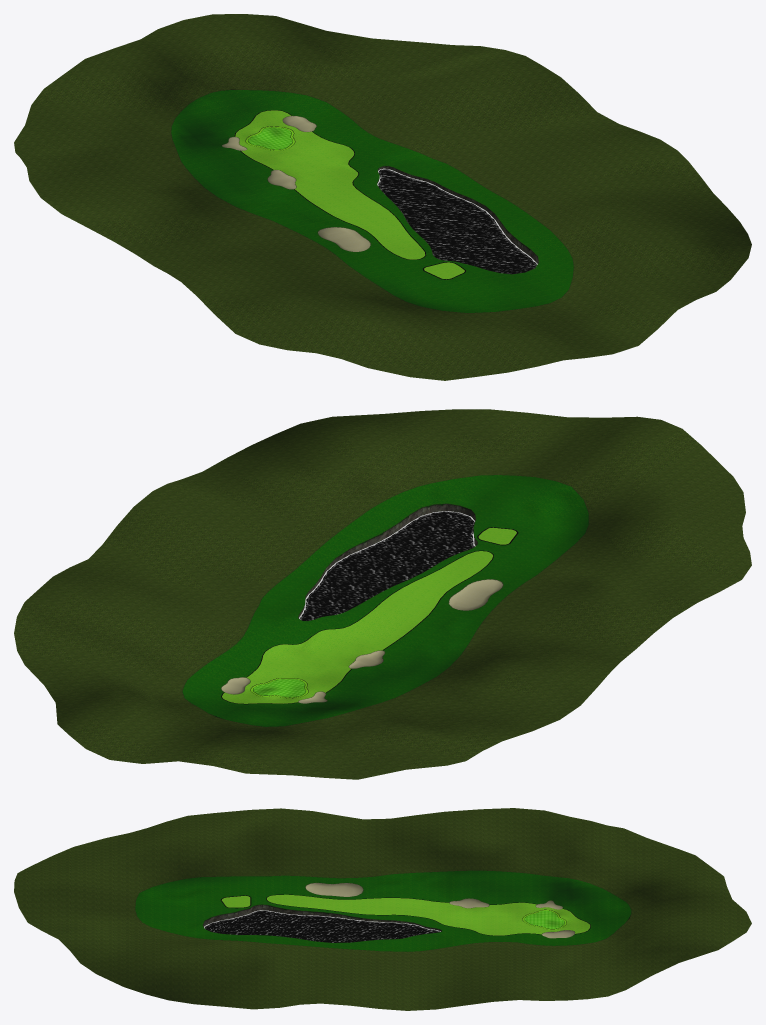
The model's file is glf_map_E3.glb.
3 views of the same model, one above another, from view 1: azimuth 30°, elevation 25°; view 2: azimuth 150°, elevation 25°; view 3: azimuth 270°, elevation 25° (orthographic). The views are drawn at different scales.
Parts seen in each view (by area): view 1: polygon36, polygon10, polygon8, polygon33, polygon4, polygon31, polygon11, polygon14, polygon0, polygon16; view 2: polygon36, polygon10, polygon8, polygon33, polygon4, polygon11, polygon31, polygon0, polygon14, polygon16; view 3: polygon36, polygon10, polygon8, polygon33, polygon4, polygon11, polygon31, polygon0, polygon16, polygon14.
Boxes of the visible parts, box(x1,y1,x2,y2) form: polygon36: box(14, 14, 751, 380); polygon10: box(171, 90, 573, 312); polygon8: box(235, 110, 464, 279); polygon33: box(378, 169, 536, 274); polygon4: box(222, 116, 370, 251); polygon31: box(170, 89, 574, 313); polygon11: box(377, 166, 538, 263); polygon14: box(248, 127, 292, 149); polygon0: box(234, 110, 465, 279); polygon16: box(221, 115, 539, 274); polygon36: box(14, 409, 751, 779); polygon10: box(182, 475, 588, 726); polygon8: box(222, 527, 516, 703); polygon33: box(299, 511, 474, 620); polygon4: box(221, 579, 502, 703); polygon11: box(298, 504, 477, 617); polygon31: box(181, 474, 589, 727); polygon0: box(221, 527, 518, 704); polygon14: box(253, 679, 305, 697); polygon16: box(220, 503, 503, 703); polygon36: box(14, 808, 751, 1010); polygon10: box(135, 870, 631, 951); polygon8: box(221, 894, 590, 935); polygon33: box(204, 910, 440, 942); polygon4: box(306, 883, 574, 938); polygon11: box(203, 904, 441, 931); polygon31: box(134, 870, 631, 951); polygon0: box(220, 894, 590, 935); polygon16: box(202, 882, 574, 942); polygon14: box(524, 910, 564, 928).
Bounding box in the file's own units: 3530 × 236 × 5424.
16 materials, 15 textured.
